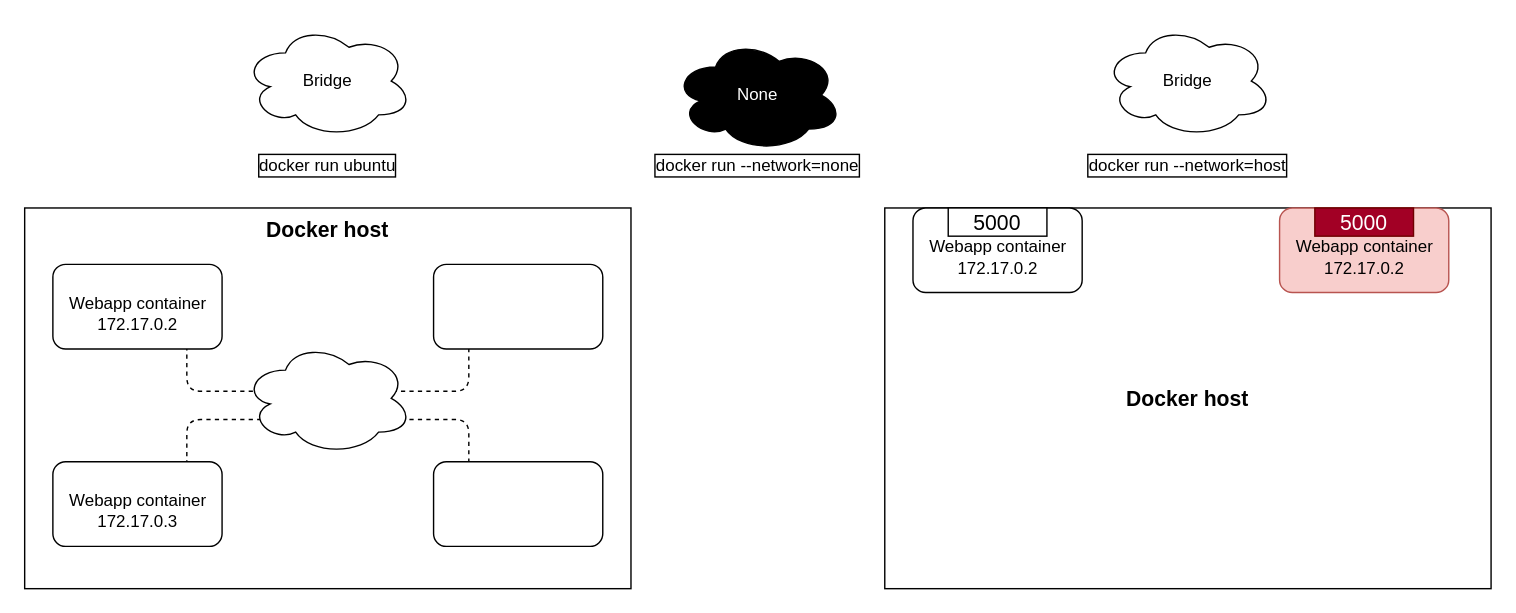
Some shapes in this 1516 by 613 pixel diagram are drawn without their labels. Each missing label, with the box of its shape:
172.17.0.1 docker0: (242, 341, 412, 455)
Webapp container 172.17.0.4: (432, 263, 603, 349)
Webapp container 172.17.0.5: (432, 460, 603, 546)
